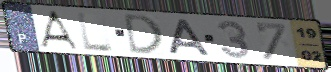3: (215, 19, 252, 61)
7: (254, 21, 289, 62)
A: (37, 10, 81, 51), (167, 18, 213, 57)
D: (122, 12, 164, 55)
L: (75, 11, 116, 53)
